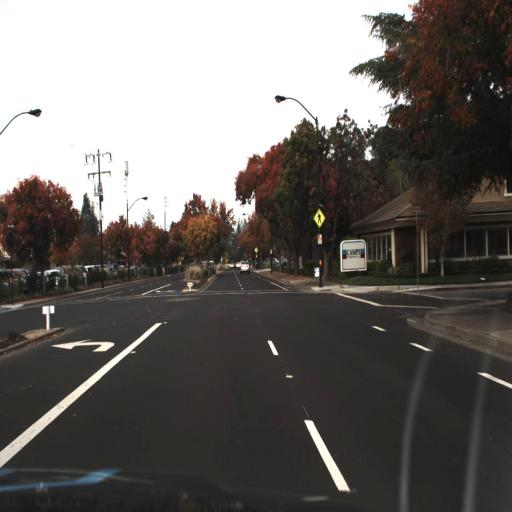car: (238, 258, 252, 276)
